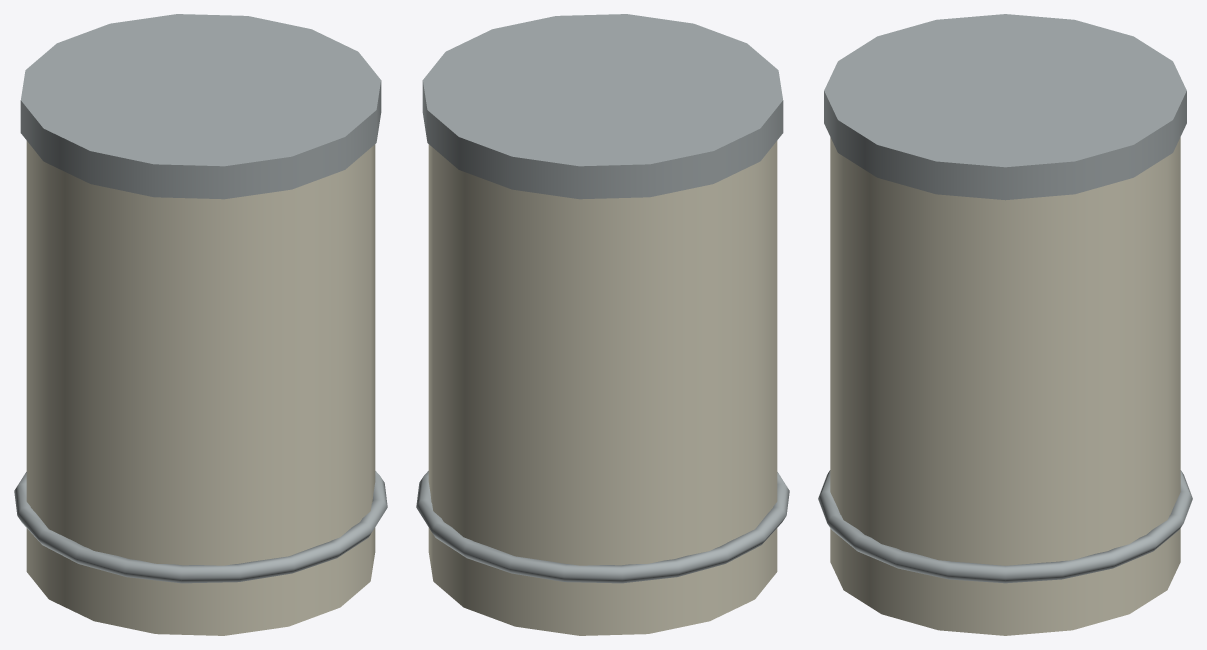
Rendered from survival-food-and-preservation-powdered-milk-tin-8e46d6da__21765.glb.
3 renders of one model, left to right at view 1: azimuth 30°, elevation 25°; view 2: azimuth 150°, elevation 25°; view 3: azimuth 270°, elevation 25°, orthographic.
Parts seen in each view (by area): view 1: powdered-milk-tin; view 2: powdered-milk-tin; view 3: powdered-milk-tin.
Part boxes in pixels (left/top/right/bottom): powdered-milk-tin: left=14, top=14, right=387, bottom=635; powdered-milk-tin: left=416, top=14, right=789, bottom=635; powdered-milk-tin: left=818, top=14, right=1192, bottom=635.
Size of the model in its own units: 0.124 by 0.172 by 0.124.
